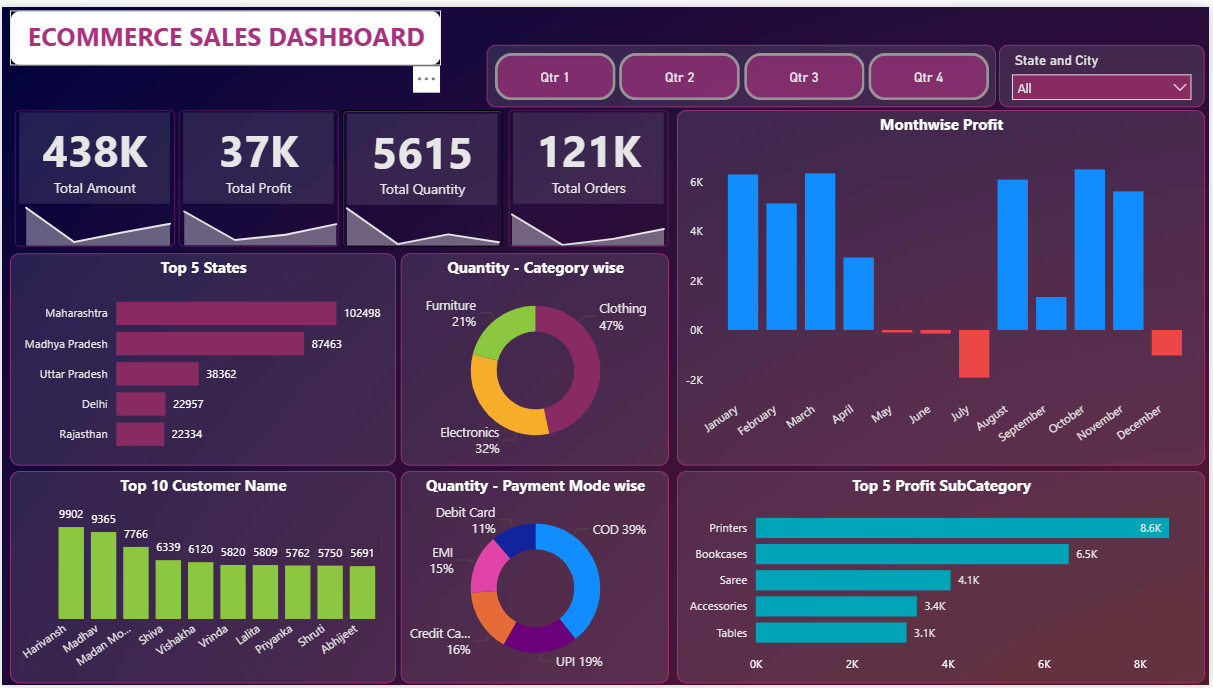

What the dashboard file says about the page in this screenshot:
{"tool":"powerbi","page":{"name":"ECOMMERCE SALES DASHBOARD","canvas":[1280,720],"ordinal":0},"visuals":[{"type":"shape","box":[361.5,109.6,169.9,145.2],"z":0},{"type":"shape","box":[537,109.6,170,145.2],"z":1000},{"type":"shape","box":[187,110,170,145],"z":2000},{"type":"textbox","box":[7.9,4,457.3,58.3],"z":3000},{"type":"columnChart","title":"Monthwise Profit","fields":{"Y":["Sum(Details.Profit)"],"Category":["Orders.Order Date.Variation.Date Hierarchy.Month"]},"box":[716,109.6,560,377.3],"z":4000},{"type":"barChart","title":"Top 5 Profit SubCategory","fields":{"Category":["Details.Sub-Category"],"Y":["Sum(Details.Profit)"]},"box":[716,491.9,560,225.2],"z":5000},{"type":"donutChart","title":"Quantity - Category wise","fields":{"Category":["Details.Category"],"Y":["Sum(Details.Quantity)"]},"box":[422.7,261.7,284.4,225.2],"z":6000},{"type":"donutChart","title":"Quantity - Payment Mode wise","fields":{"Category":["Details.PaymentMode"],"Y":["Sum(Details.Quantity)"]},"box":[422.7,491.9,284.4,225.2],"z":7000},{"type":"card","fields":{"Values":["Sum(Details.Profit)"]},"box":[191.6,112,160,96.8],"z":8000},{"type":"card","fields":{"Values":["Sum(Details.Quantity)"]},"box":[366.4,112.6,160,96.8],"z":9000},{"type":"card","fields":{"Values":["Sum(Details.Order)"]},"box":[542.2,112,160,96.8],"z":10000},{"type":"barChart","title":"Top 5 States","fields":{"Category":["Orders.State"],"Y":["Sum(Details.Amount)"]},"box":[7.9,261.7,408.9,225.2],"z":11000},{"type":"shape","box":[12.8,110,170,145],"z":12000},{"type":"card","fields":{"Values":["Sum(Details.Amount)"]},"box":[17.8,111.6,160,96.8],"z":13000},{"type":"columnChart","title":"Top 10 Customer Name","fields":{"Category":["Orders.CustomerName"],"Y":["Sum(Details.Amount)"]},"box":[7.9,491.9,408.9,225.2],"z":14000},{"type":"areaChart","fields":{"Category":["Orders.Order Date.Variation.Date Hierarchy.Quarter"],"Y":["Sum(Details.Amount)"]},"box":[0,197.5,203.5,60.2],"z":15000},{"type":"areaChart","fields":{"Category":["Orders.Order Date.Variation.Date Hierarchy.Quarter"],"Y":["Sum(Details.Profit)"]},"box":[165.9,197.5,214.3,60.2],"z":16000},{"type":"areaChart","fields":{"Category":["Orders.Order Date.Variation.Date Hierarchy.Quarter"],"Y":["Sum(Details.Quantity)"]},"box":[338.8,197.5,214.3,60.2],"z":17000},{"type":"areaChart","fields":{"Category":["Orders.Order Date.Variation.Date Hierarchy.Quarter"],"Y":["Sum(Details.Order)"]},"box":[514.6,197.5,214.3,60.2],"z":18000},{"type":"advancedSlicerVisual","fields":{"Values":["Orders.Order Date.Variation.Date Hierarchy.Quarter"]},"box":[514.6,40.5,540.2,66.2],"z":19000},{"type":"slicer","fields":{"Values":["Orders.State","Orders.City"]},"box":[1057.8,40.5,218.3,66.2],"z":20000}]}

Visuals, with their boxes in screenshot pixels (x1, y1, x2, y2), scaled from the page's 1280x720 canvas onto the 1213x688 screenshot:
shape: select_region(343, 105, 504, 243)
shape: select_region(509, 105, 670, 243)
shape: select_region(177, 105, 338, 244)
textbox: select_region(7, 4, 441, 60)
"Monthwise Profit" columnChart: select_region(679, 105, 1209, 465)
"Top 5 Profit SubCategory" barChart: select_region(679, 470, 1209, 685)
"Quantity - Category wise" donutChart: select_region(401, 250, 670, 465)
"Quantity - Payment Mode wise" donutChart: select_region(401, 470, 670, 685)
card - Sum(Details.Profit): select_region(182, 107, 333, 200)
card - Sum(Details.Quantity): select_region(347, 108, 499, 200)
card - Sum(Details.Order): select_region(514, 107, 665, 200)
"Top 5 States" barChart: select_region(7, 250, 395, 465)
shape: select_region(12, 105, 173, 244)
card - Sum(Details.Amount): select_region(17, 107, 168, 199)
"Top 10 Customer Name" columnChart: select_region(7, 470, 395, 685)
areaChart - Orders.Order Date.Variation.Date Hierarchy.Quarter x Sum(Details.Amount): select_region(0, 189, 193, 246)
areaChart - Orders.Order Date.Variation.Date Hierarchy.Quarter x Sum(Details.Profit): select_region(157, 189, 360, 246)
areaChart - Orders.Order Date.Variation.Date Hierarchy.Quarter x Sum(Details.Quantity): select_region(321, 189, 524, 246)
areaChart - Orders.Order Date.Variation.Date Hierarchy.Quarter x Sum(Details.Order): select_region(488, 189, 691, 246)
advancedSlicerVisual - Orders.Order Date.Variation.Date Hierarchy.Quarter: select_region(488, 39, 1000, 102)
slicer - Orders.State x Orders.City: select_region(1002, 39, 1209, 102)
